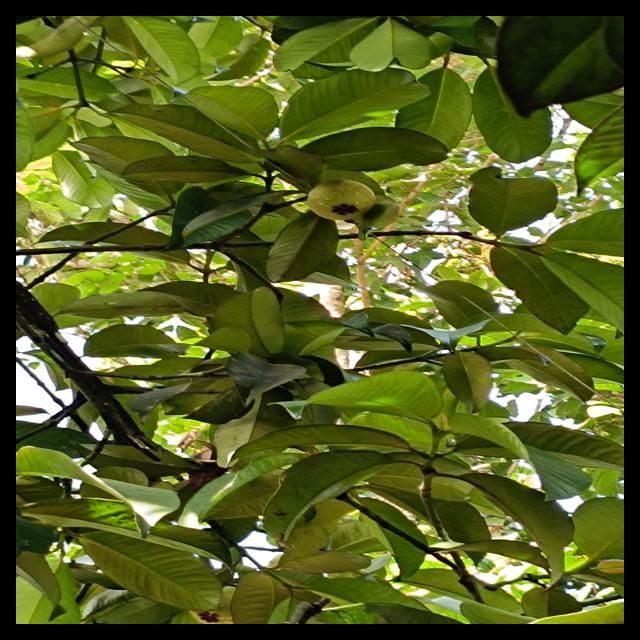mangosteen: (303, 170, 383, 230)
